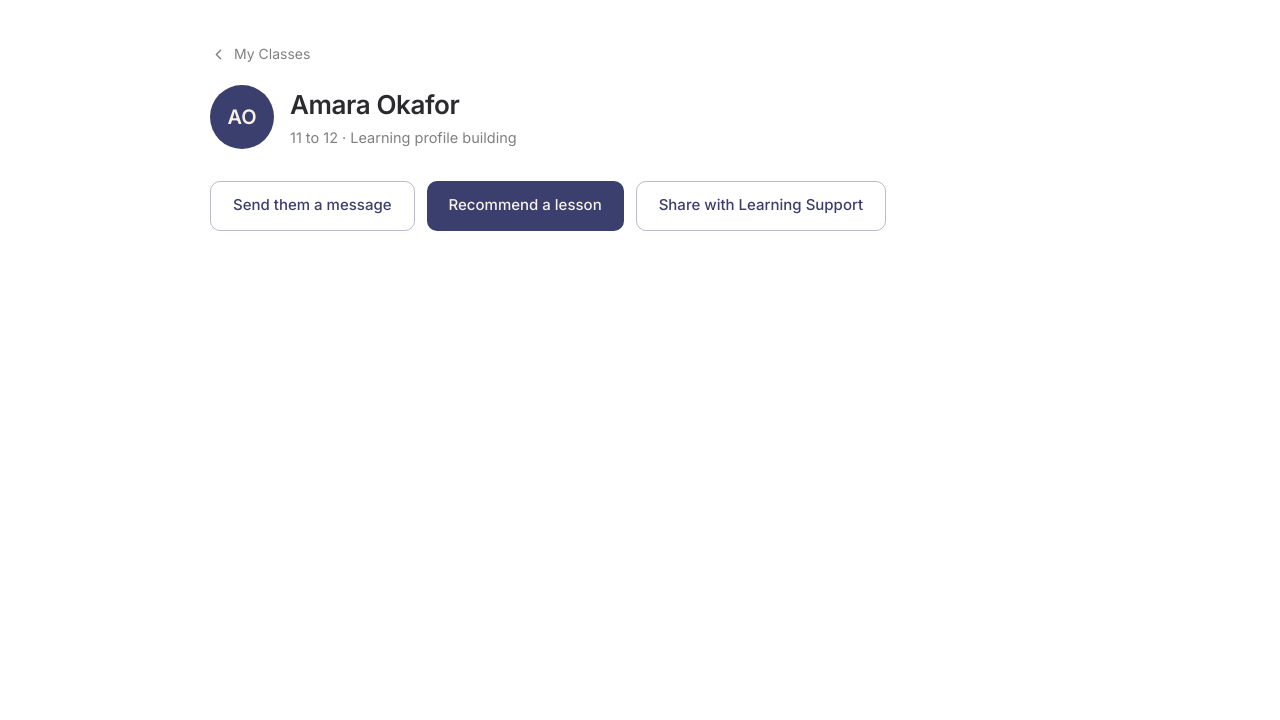
Test: the sheet, from this screen › closes without sending when cancelled
Click the button "Share with Learning Support" at point(761, 206), box [636,180,886,230]
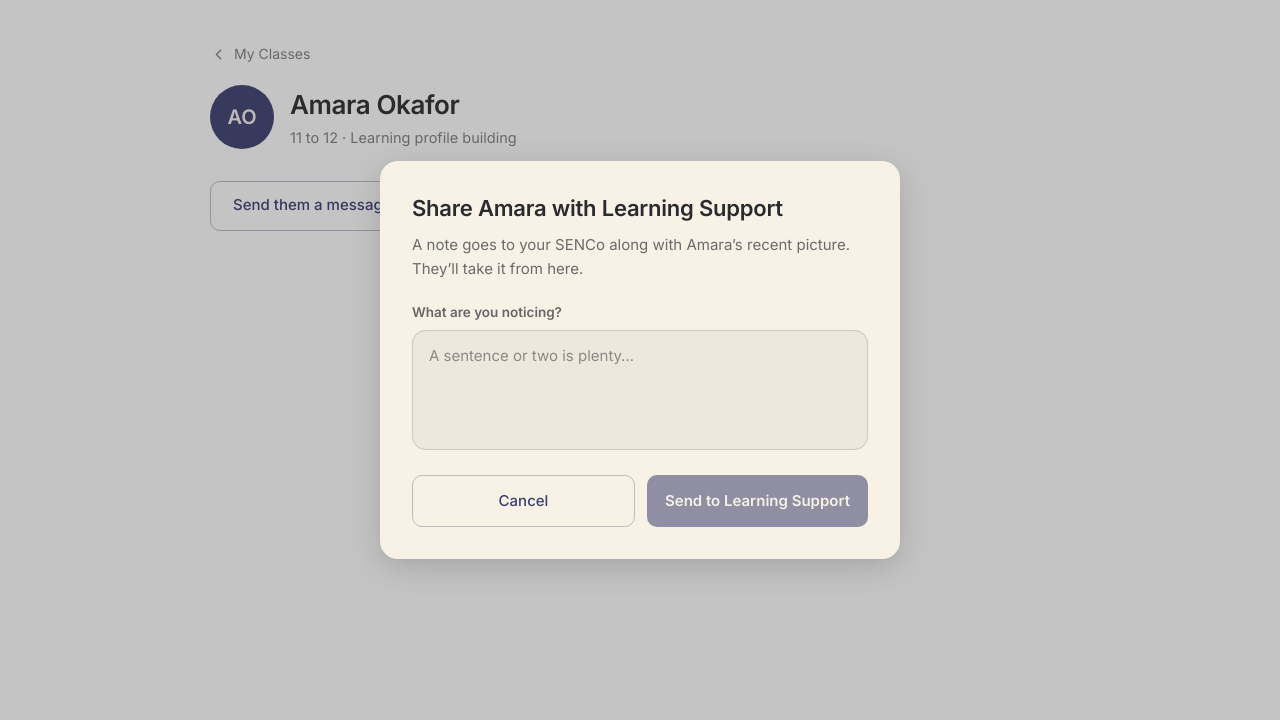
Type "Half a thought." into the text box at point(640, 390), box [412,330,868,450]
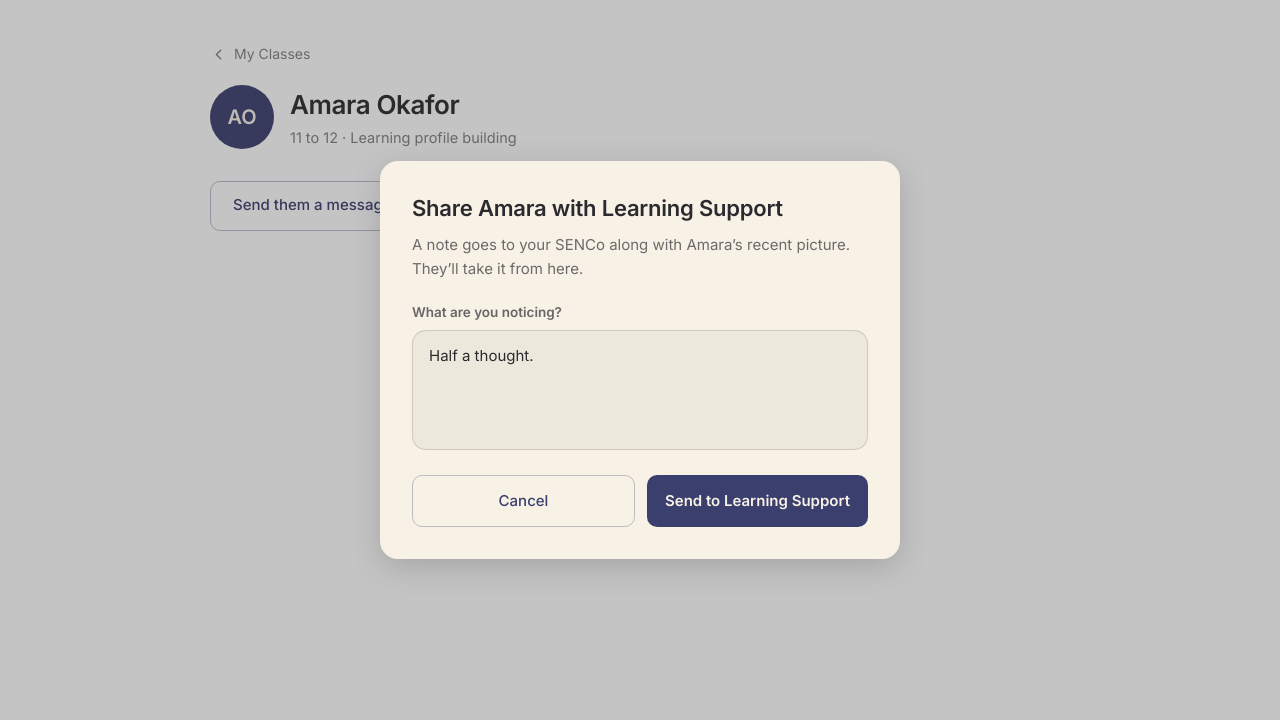
Click the button "Cancel" at point(524, 501), box [412,475,635,527]
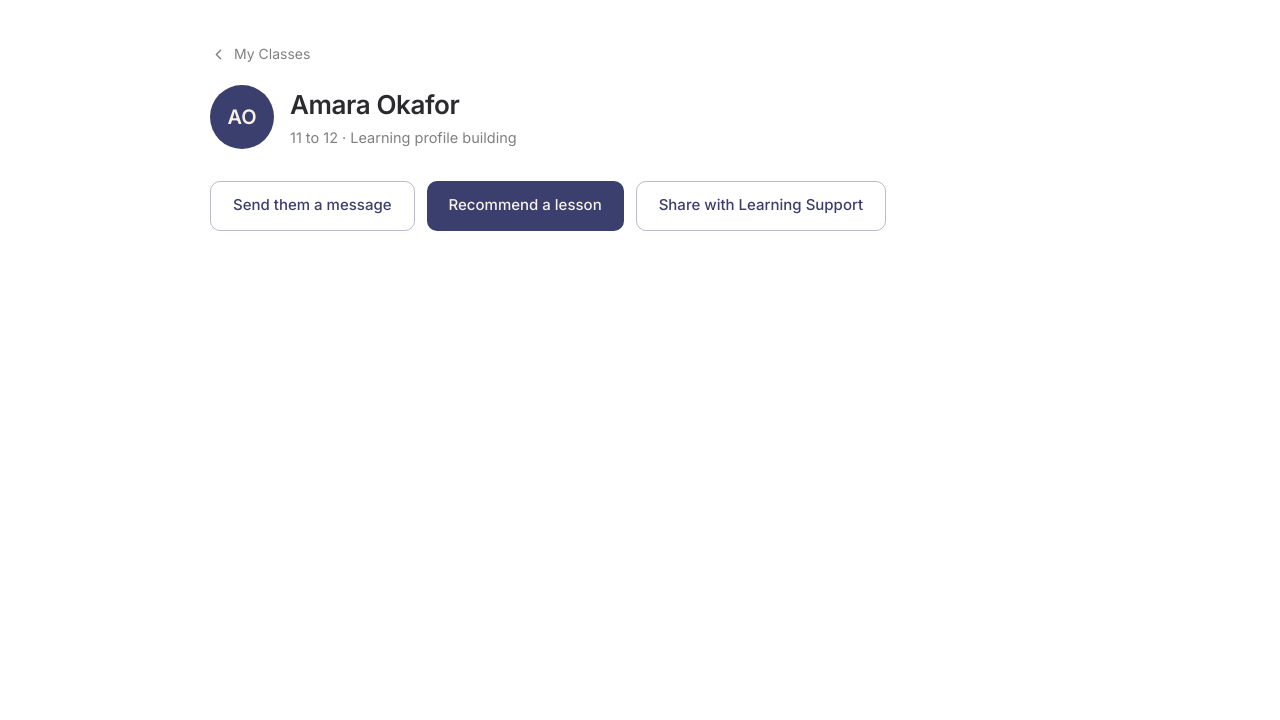
Now the dialog is gone
